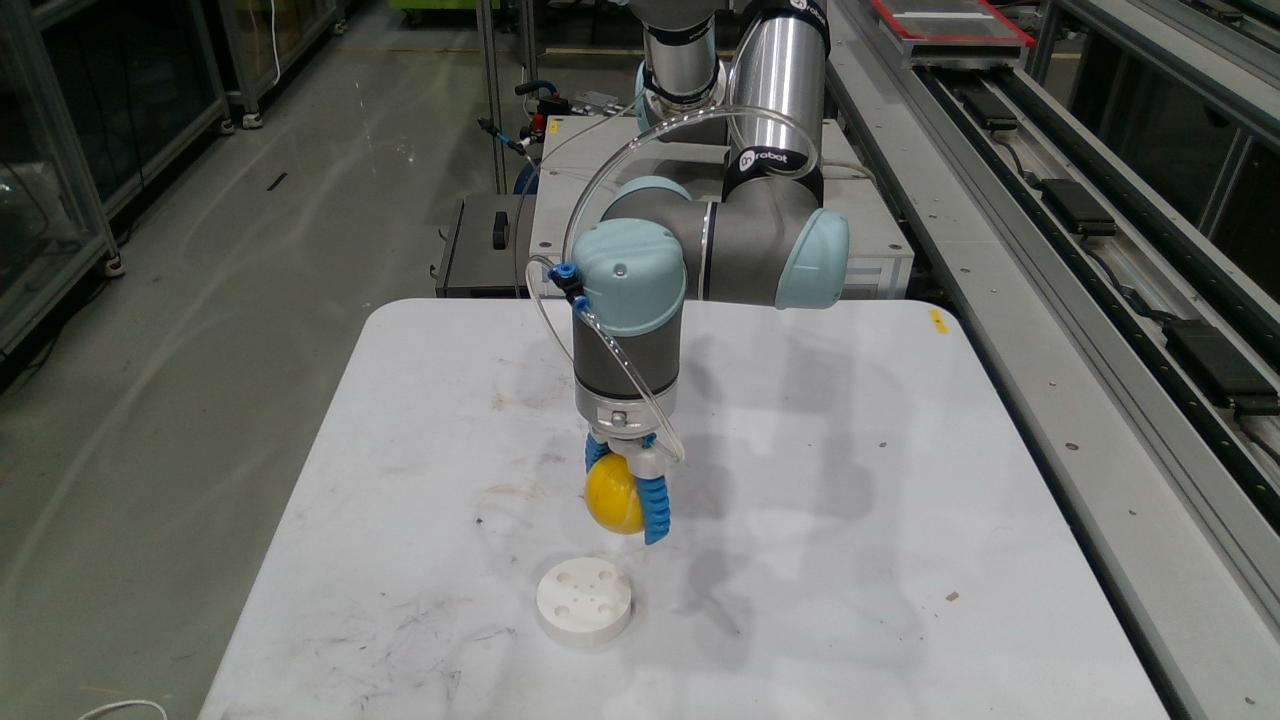UR5: (551, 0, 848, 540)
gripper_left: (587, 433, 611, 473)
gripper_right: (640, 476, 668, 543)
target: (537, 557, 630, 646), (585, 452, 641, 532)
